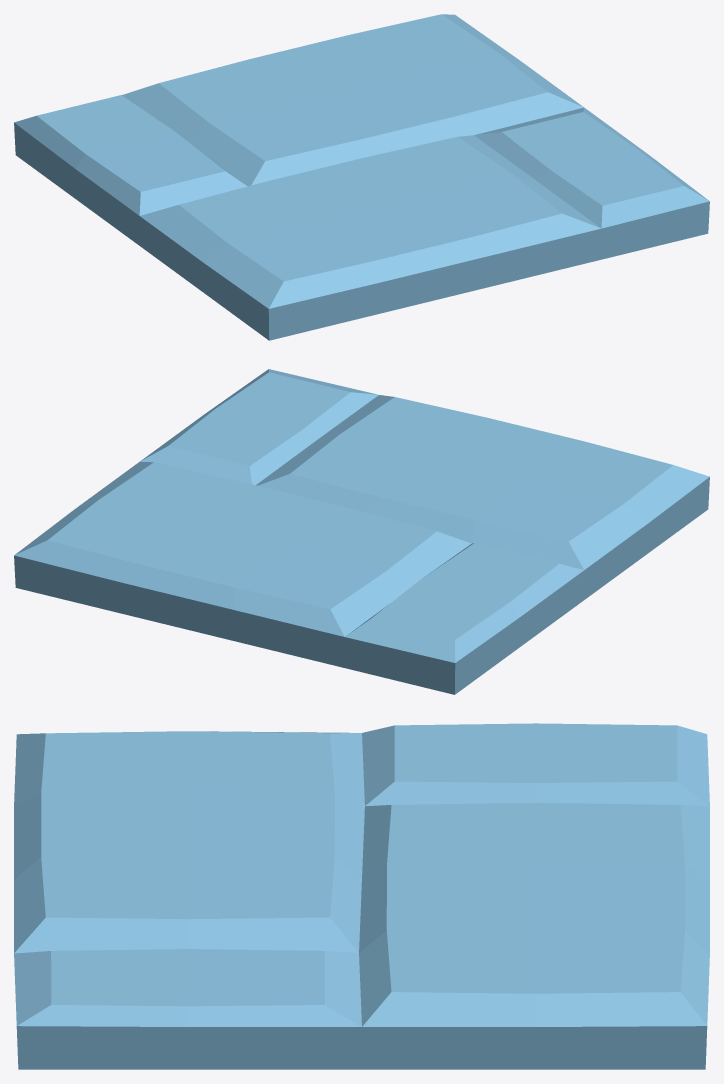
Rendered from bricks style 0.fbx.
3 renders of one model, top to bottom at view 1: azimuth 30°, elevation 25°; view 2: azimuth 150°, elevation 25°; view 3: azimuth 270°, elevation 25°, orthographic. The views are drawn at different scales.
Visible parts, largest first — view 1: Cube.034; view 2: Cube.034; view 3: Cube.034.
Boxes of the visible parts, x1,y1,x2,y2 form: Cube.034: (14, 14, 709, 340); Cube.034: (14, 369, 709, 694); Cube.034: (14, 723, 709, 1069).
Bounding box in the file's own units: 300 × 30 × 300.
